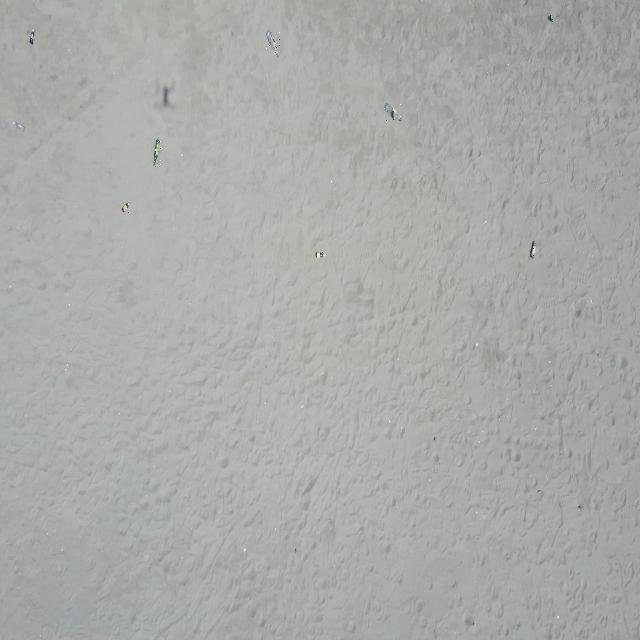glass: (266, 31, 280, 57), (384, 104, 402, 122), (154, 139, 162, 166), (530, 241, 537, 259), (13, 122, 25, 132), (29, 28, 35, 44), (122, 202, 130, 213), (315, 252, 325, 258), (550, 12, 554, 24)
